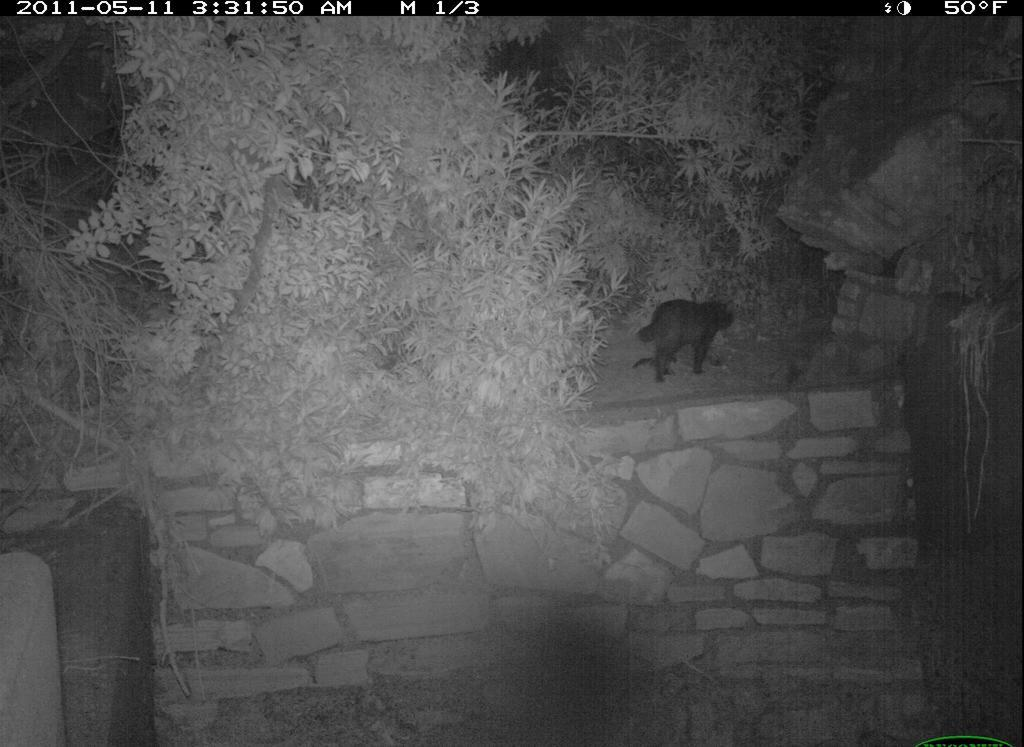cat: (626, 294, 742, 393)
